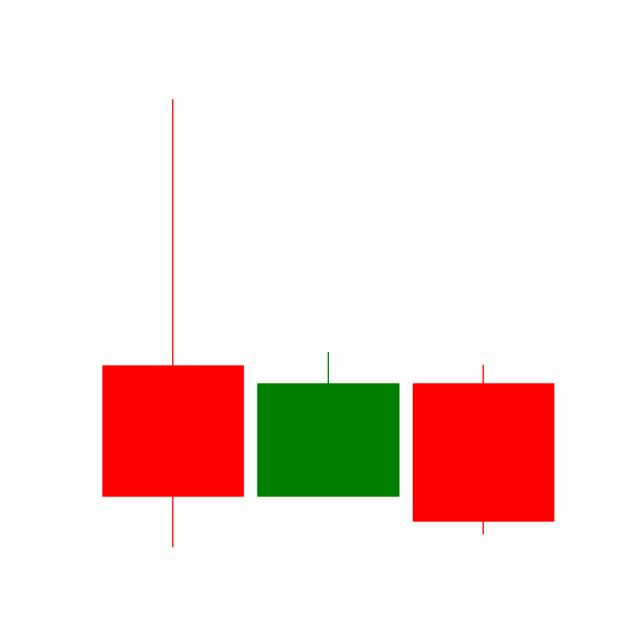Marubozu: (405, 362, 561, 536)
